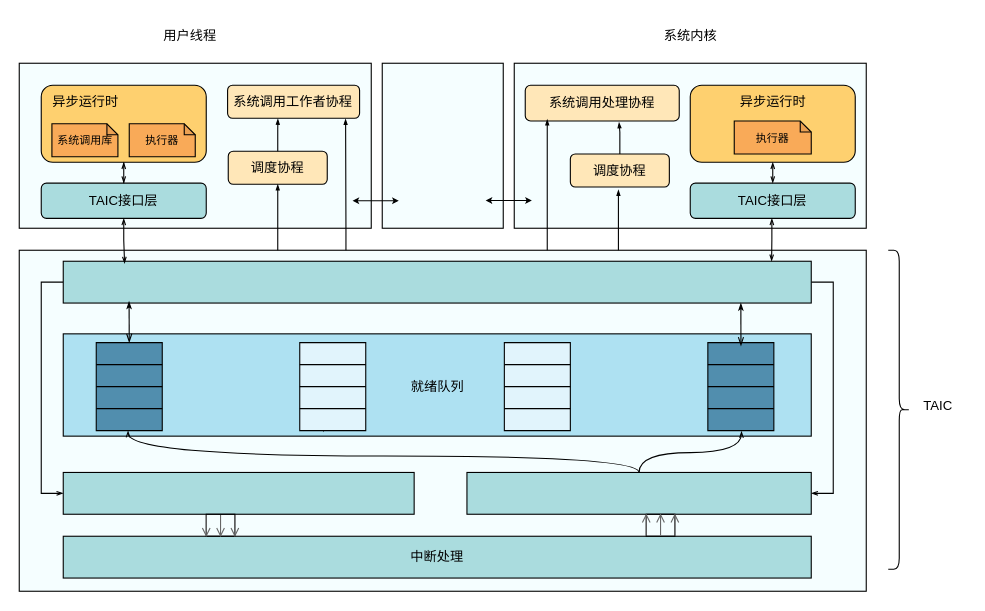
The diagram is 985 pixels wide and 611 high, and some of its shapes have lost their labels. Each missing label, with the centre of its shape:
"共享内存 IPC缓冲区" belongs at (442,145).
"发送能力表" belongs at (238,492).
"接收能力表" belongs at (638,492).
"驱动" belongs at (436,281).
